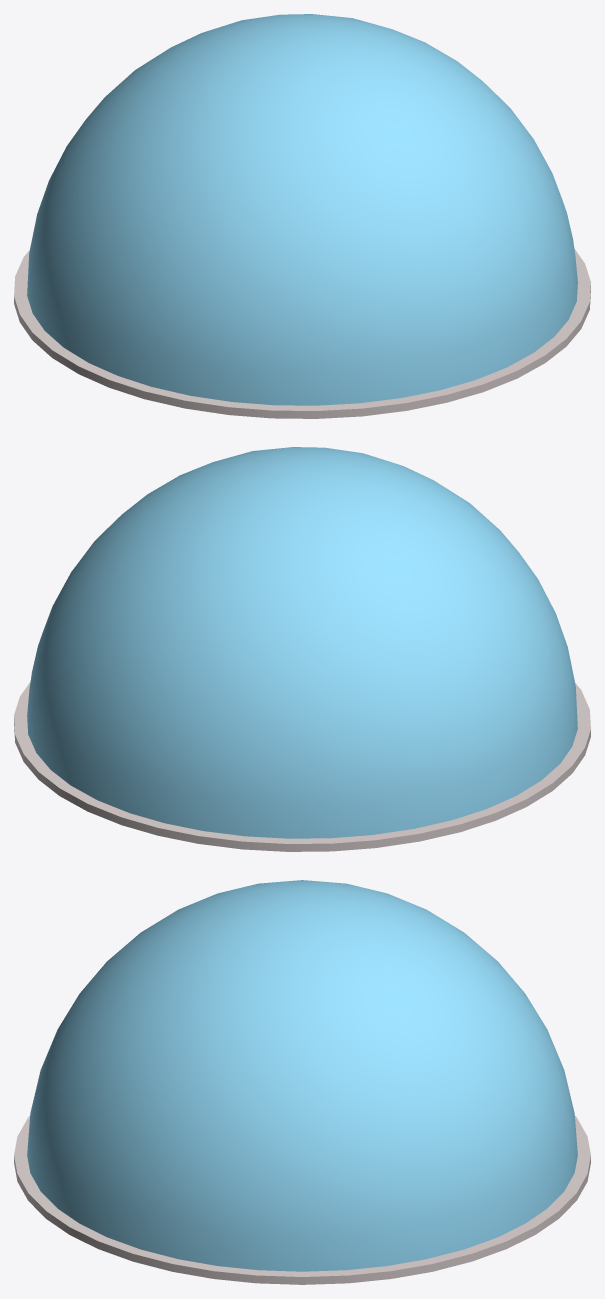
Rendered from Dome.fbx.
3 renders of one model, top to bottom at view 1: azimuth 30°, elevation 25°; view 2: azimuth 150°, elevation 25°; view 3: azimuth 270°, elevation 25°, orthographic.
Parts seen in each view (by area): view 1: Icosphere; view 2: Icosphere; view 3: Icosphere.
Part boxes in pixels (<box>): Icosphere: <box>14,14,590,418</box>; Icosphere: <box>14,447,590,851</box>; Icosphere: <box>14,880,590,1284</box>.
Size of the model in its own units: 1429 by 703 by 1429.
